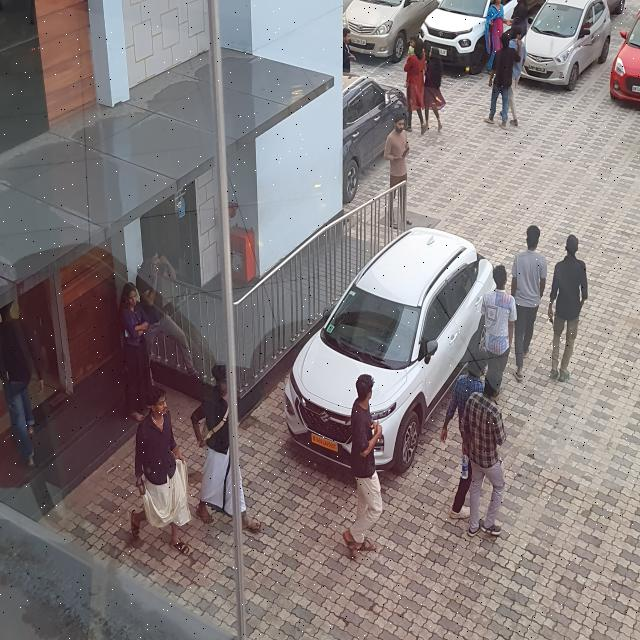humans: (421, 344, 494, 528), (190, 358, 264, 535), (123, 386, 191, 555), (336, 368, 391, 564), (456, 363, 512, 549), (0, 293, 52, 481), (502, 225, 552, 393), (543, 230, 591, 386), (142, 246, 192, 379), (112, 280, 152, 433), (479, 261, 523, 378), (477, 32, 524, 134), (382, 109, 415, 233), (398, 33, 431, 141), (501, 30, 531, 133), (478, 1, 513, 78), (421, 44, 449, 137), (341, 26, 355, 75)
